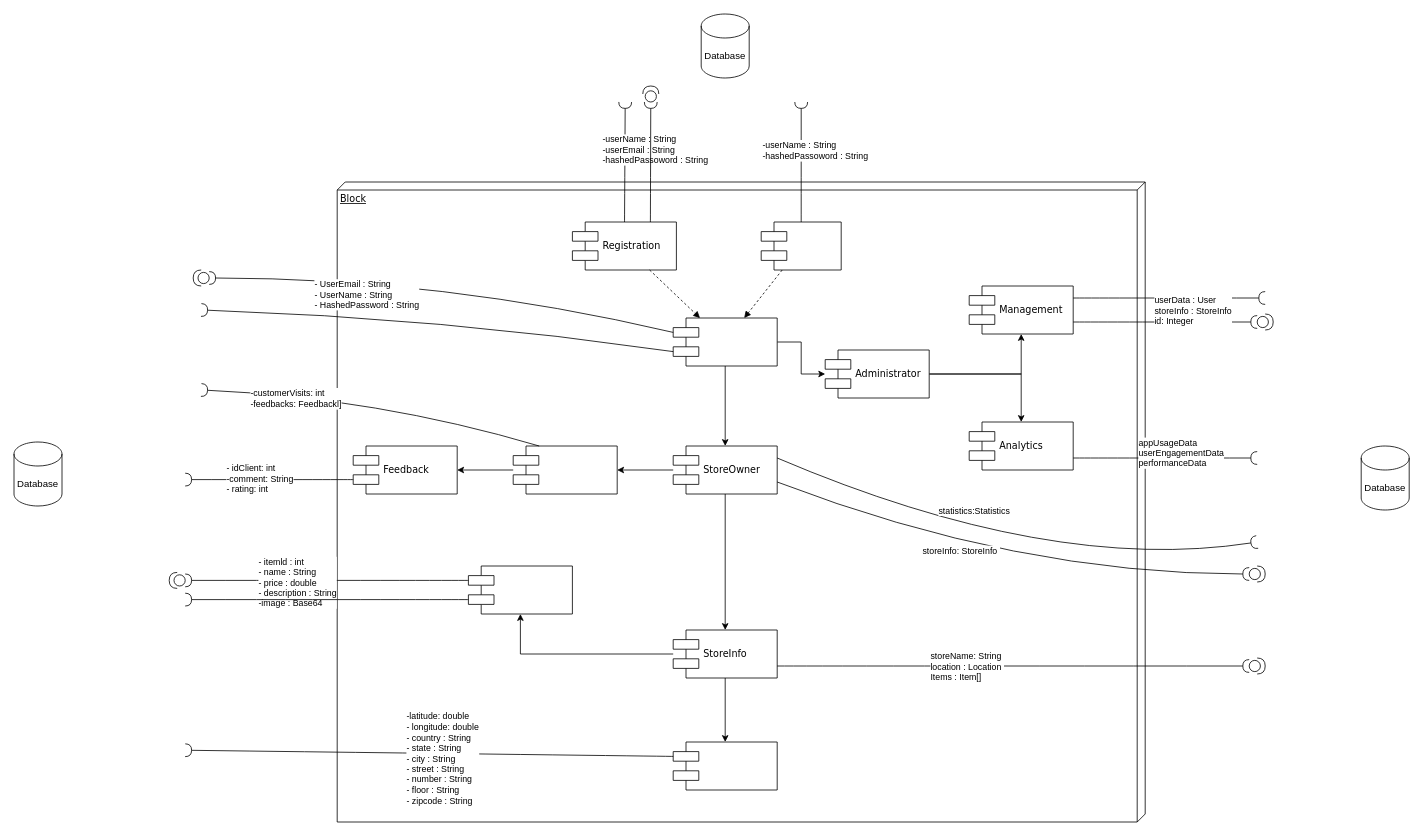
This 1423x836 diagram has some shape labels left out. Each missing label, with the centre of its shape:
"Item" goes at (x=520, y=589).
"Location" goes at (x=724, y=765).
"Login" goes at (x=800, y=245).
"Statistics" goes at (x=564, y=469).
"User" goes at (x=724, y=341).
